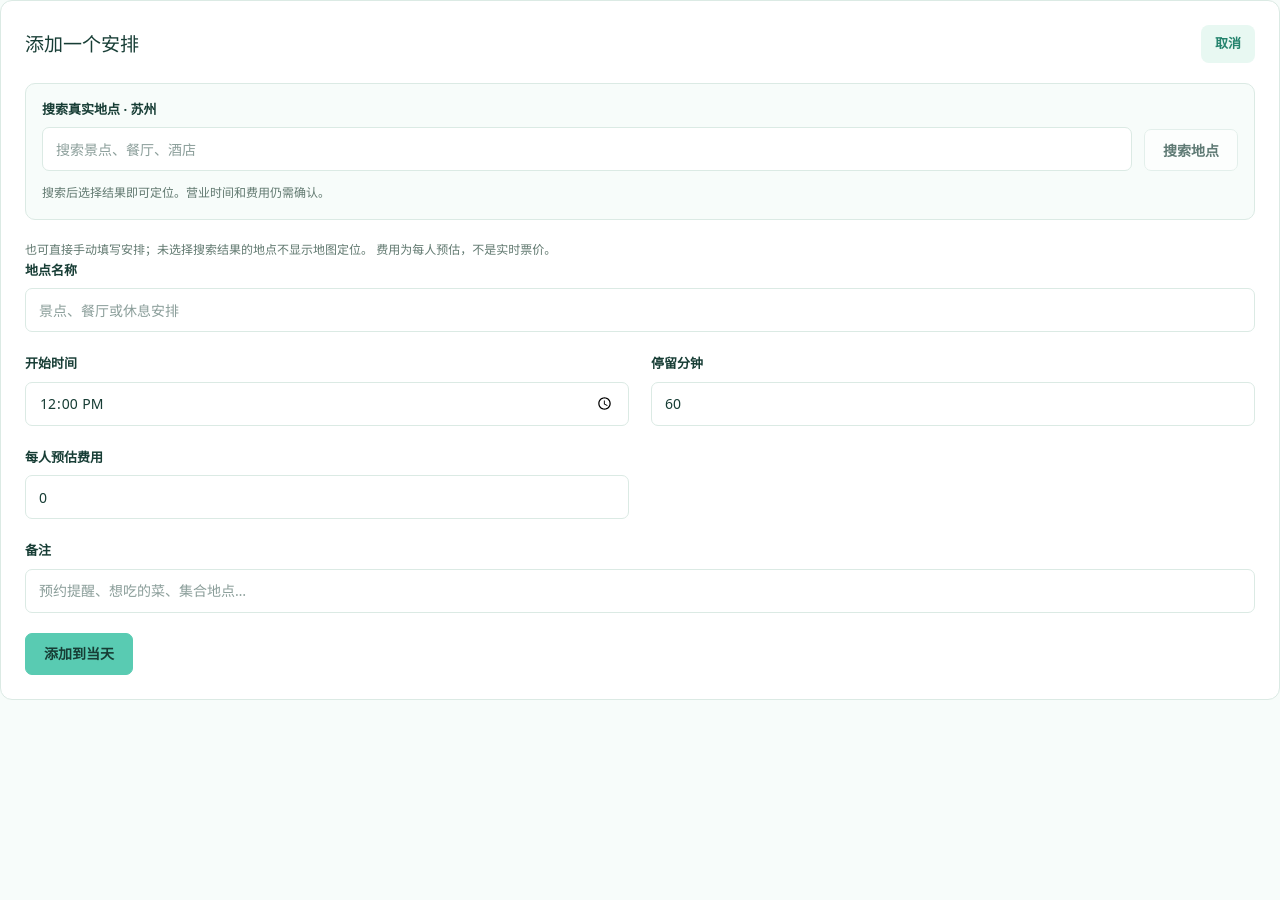
Scenario: 快速连续搜索只展示最后一次查询结果
This screenshot has width=1280, height=900.
Type "博物馆" into the field labelled "搜索真实地点" at (587, 149), box x1=42 y1=127 x2=1132 y2=171
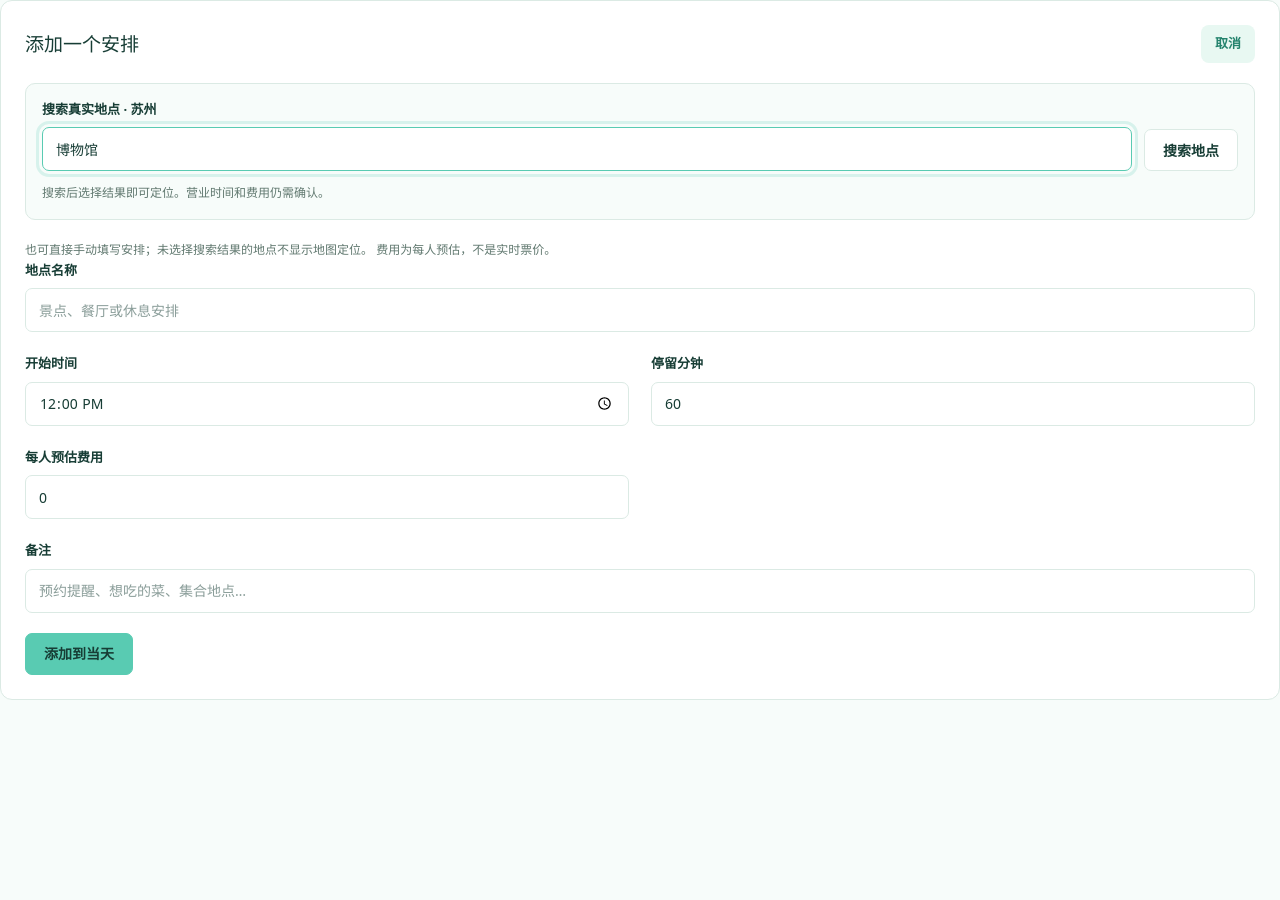
Click the button "搜索地点" at (1191, 150), box x1=1144 y1=129 x2=1238 y2=171
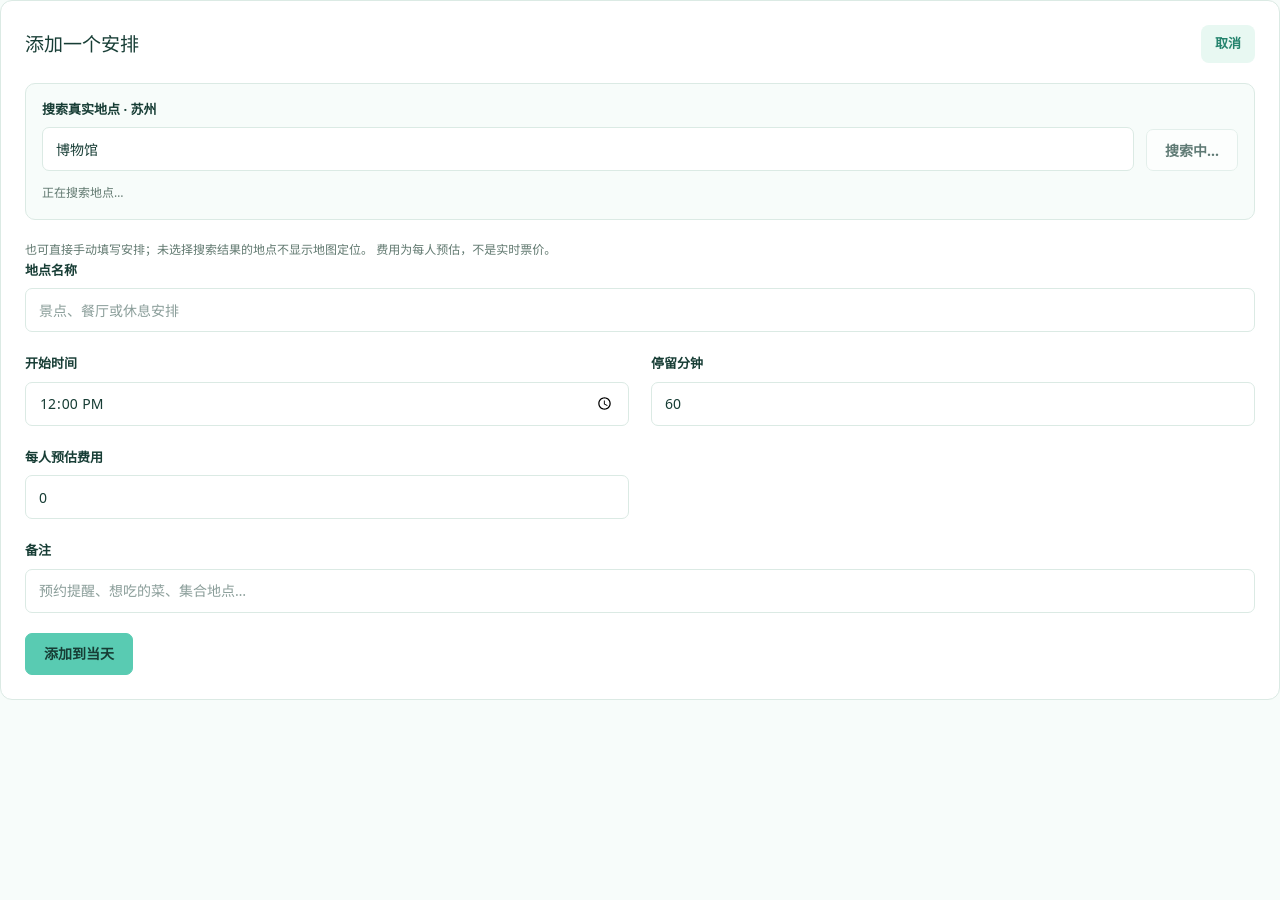
Clear the field labelled "搜索真实地点" at (588, 149), box x1=42 y1=127 x2=1134 y2=171
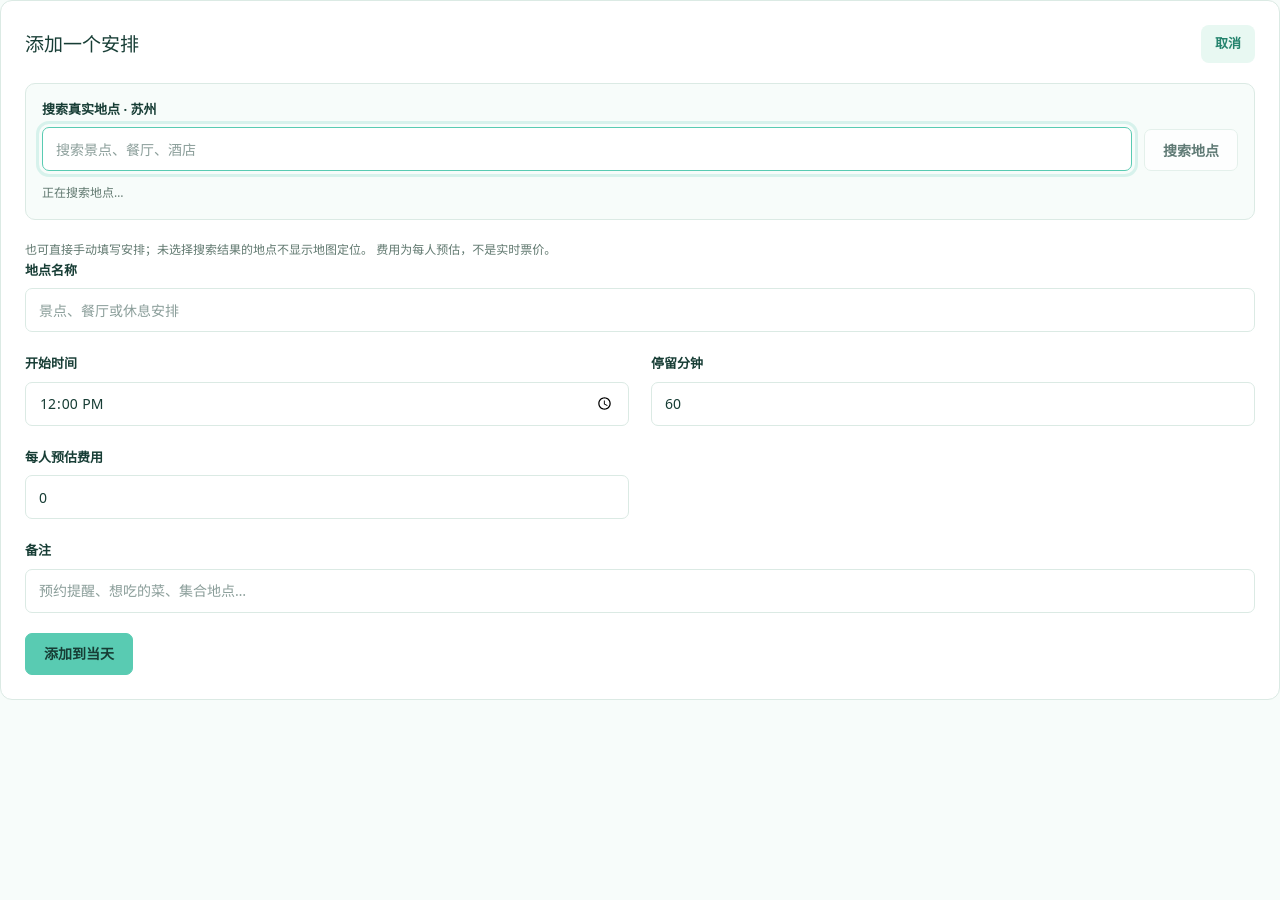
Type "园林" into the field labelled "搜索真实地点" at (587, 149), box x1=42 y1=127 x2=1132 y2=171
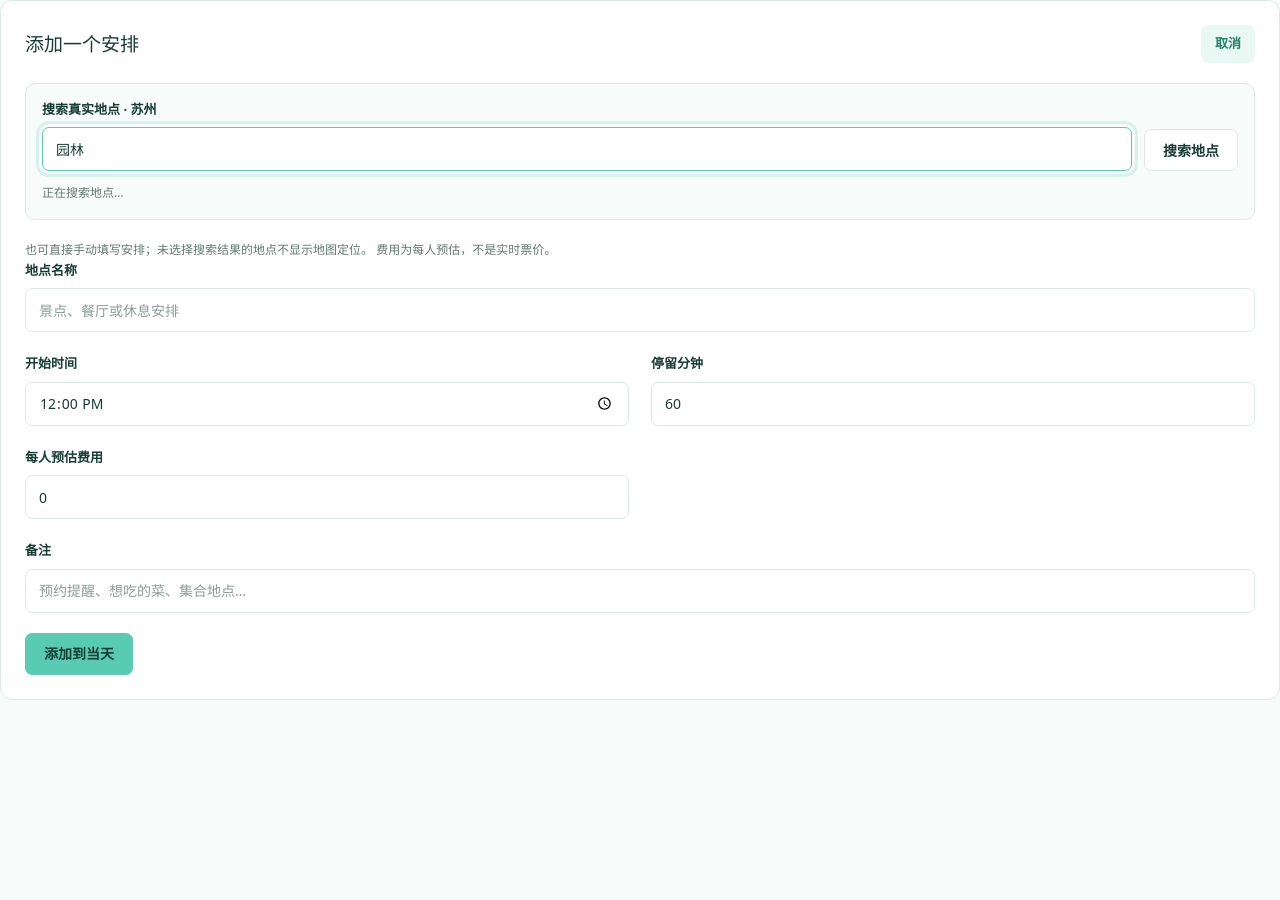
Click the button "搜索地点" at (1191, 150), box x1=1144 y1=129 x2=1238 y2=171
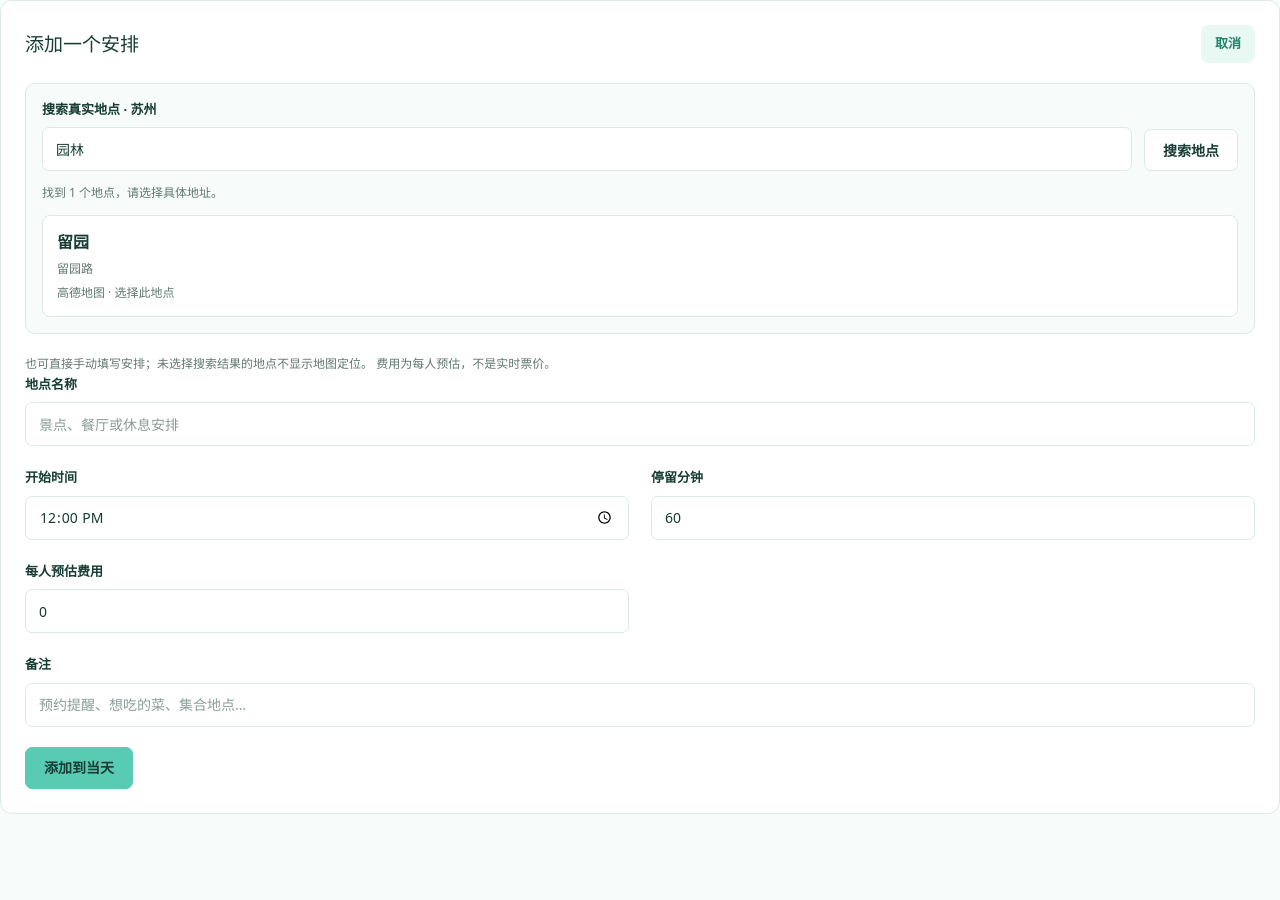
Result: the button with aria-label "选择留园" is shown at x1=42 y1=215 x2=1238 y2=317
